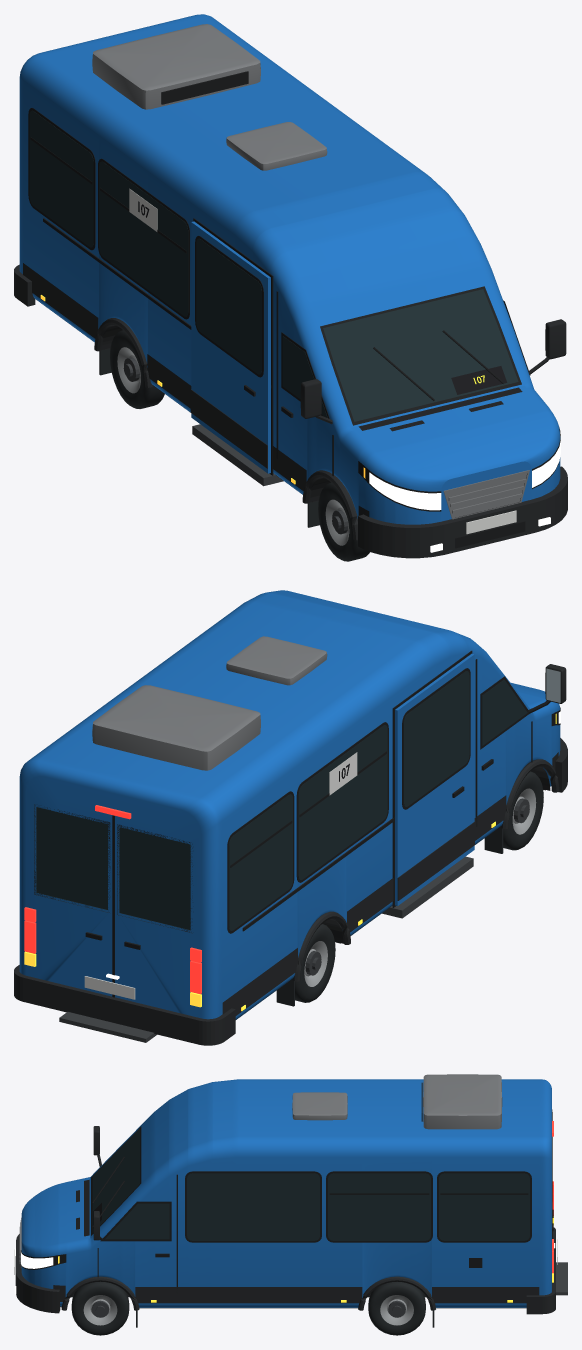
File: PT_Minibus_Route.glb
3 views of the same model, one above another, from view 1: azimuth 30°, elevation 25°; view 2: azimuth 150°, elevation 25°; view 3: azimuth 270°, elevation 25° (orthographic). The views are drawn at different scales.
Visible parts, largest first — view 1: Body, Glass_Windscreen, Roof_AC, Glass_Side_R2, Door_Slide, Door_Slide_Glass, Glass_Side_R1, Bumper_Front, Cladding_R, Roof_Hatch, Door_Slide_Cladding, Windscreen_Seal (+20 smaller); view 2: Body, Roof_AC, Glass_Side_R2, Door_Slide, Door_Slide_Glass, Glass_Rear_R, Glass_Rear_L, Bumper_Rear, Glass_Side_R1, Cladding_R, Roof_Hatch, Door_Slide_Cladding (+15 smaller); view 3: Body, Glass_Side_L3, Glass_Side_L2, Glass_Side_L1, Cladding_L, Roof_AC, Glass_Windscreen, Glass_Cab_L, Wheel_RL_Tyre, Wheel_FL_Tyre, Roof_Hatch, Bumper_Front (+14 smaller).
Boxes of the visible parts, x1,y1,x2,y2 form: Body: [19, 14, 560, 524]; Glass_Windscreen: [323, 289, 518, 421]; Roof_AC: [92, 24, 260, 109]; Glass_Side_R2: [99, 161, 188, 316]; Door_Slide: [191, 221, 270, 473]; Door_Slide_Glass: [196, 238, 261, 374]; Glass_Side_R1: [29, 110, 93, 247]; Bumper_Front: [358, 466, 567, 558]; Cladding_R: [23, 263, 369, 516]; Roof_Hatch: [226, 122, 327, 170]; Door_Slide_Cladding: [190, 389, 267, 468]; Windscreen_Seal: [320, 286, 521, 425]; Body: [19, 590, 560, 1019]; Roof_AC: [92, 685, 260, 770]; Glass_Side_R2: [298, 725, 387, 879]; Door_Slide: [395, 653, 474, 905]; Door_Slide_Glass: [403, 671, 469, 806]; Glass_Rear_R: [119, 827, 190, 930]; Glass_Rear_L: [36, 807, 107, 909]; Bumper_Rear: [14, 965, 235, 1045]; Glass_Side_R1: [229, 794, 292, 930]; Cladding_R: [222, 752, 558, 1015]; Roof_Hatch: [226, 636, 327, 685]; Door_Slide_Cladding: [397, 821, 474, 900]; Body: [21, 1079, 551, 1307]; Glass_Side_L3: [187, 1173, 319, 1240]; Glass_Side_L2: [328, 1173, 430, 1240]; Glass_Side_L1: [439, 1173, 529, 1240]; Cladding_L: [53, 1285, 539, 1303]; Roof_AC: [423, 1074, 502, 1129]; Glass_Windscreen: [92, 1128, 139, 1232]; Glass_Cab_L: [105, 1203, 169, 1239]; Wheel_RL_Tyre: [368, 1281, 425, 1335]; Wheel_FL_Tyre: [71, 1281, 129, 1335]; Roof_Hatch: [292, 1092, 347, 1120]; Bumper_Front: [16, 1234, 60, 1313].
Size of the model in its own units: 2.72 by 2.92 by 7.
